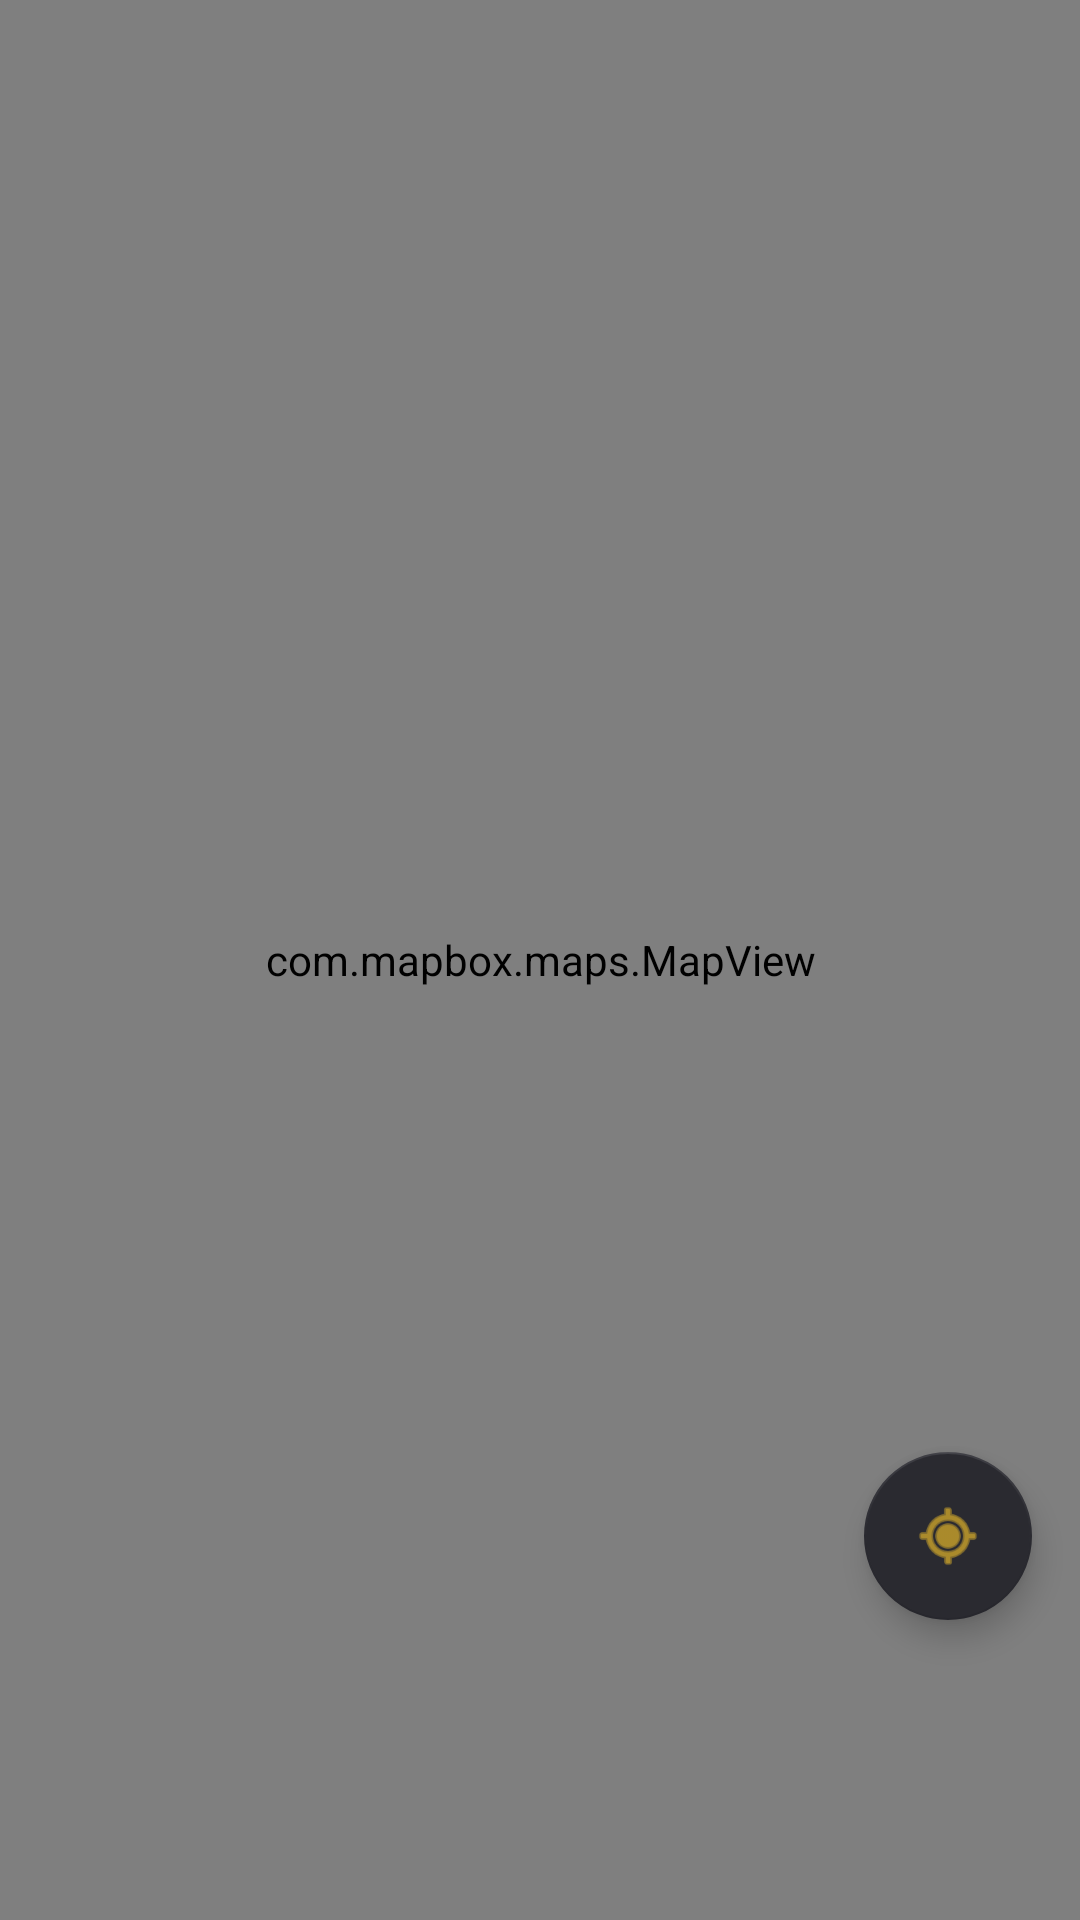

Icon bounding boxes for this 1080x1920 phone screenshot, format [x1,y1,x2,y2]:
Mi ubicación: [864,1452,1032,1620]
